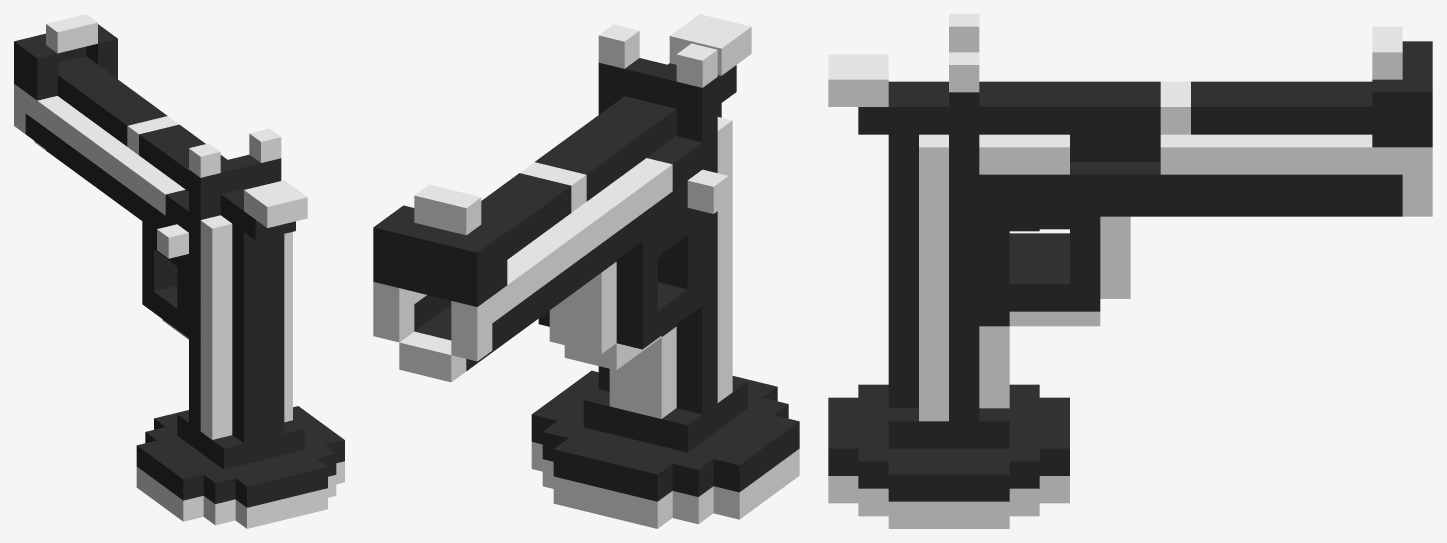
File: weapon.fbx
3 views of the same model, side by side, from view 1: azimuth 30°, elevation 25°; view 2: azimuth 150°, elevation 25°; view 3: azimuth 270°, elevation 25° (orthographic). The views are drawn at different scales.
Parts seen in each view (by area): view 1: weapon; view 2: weapon; view 3: weapon.
Part boxes in pixels (x1,y1,x2,y2): weapon: (14,14,344,528); weapon: (373,14,799,528); weapon: (828,14,1432,528).
Bounding box in the file's own units: 800 × 1600 × 2000.
